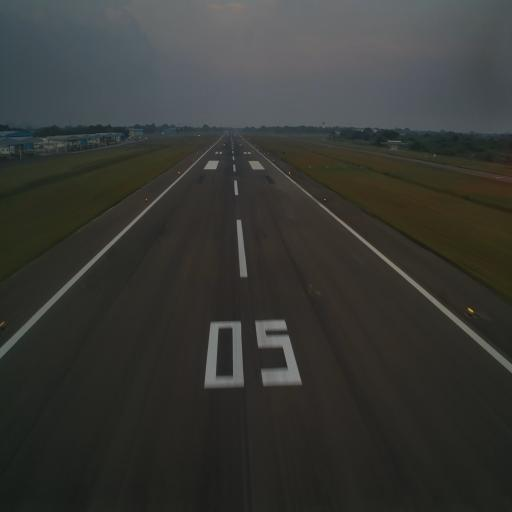on: (467, 303, 476, 316), (0, 316, 7, 331), (145, 197, 148, 202), (323, 197, 326, 202), (178, 170, 180, 175), (288, 170, 290, 175)
